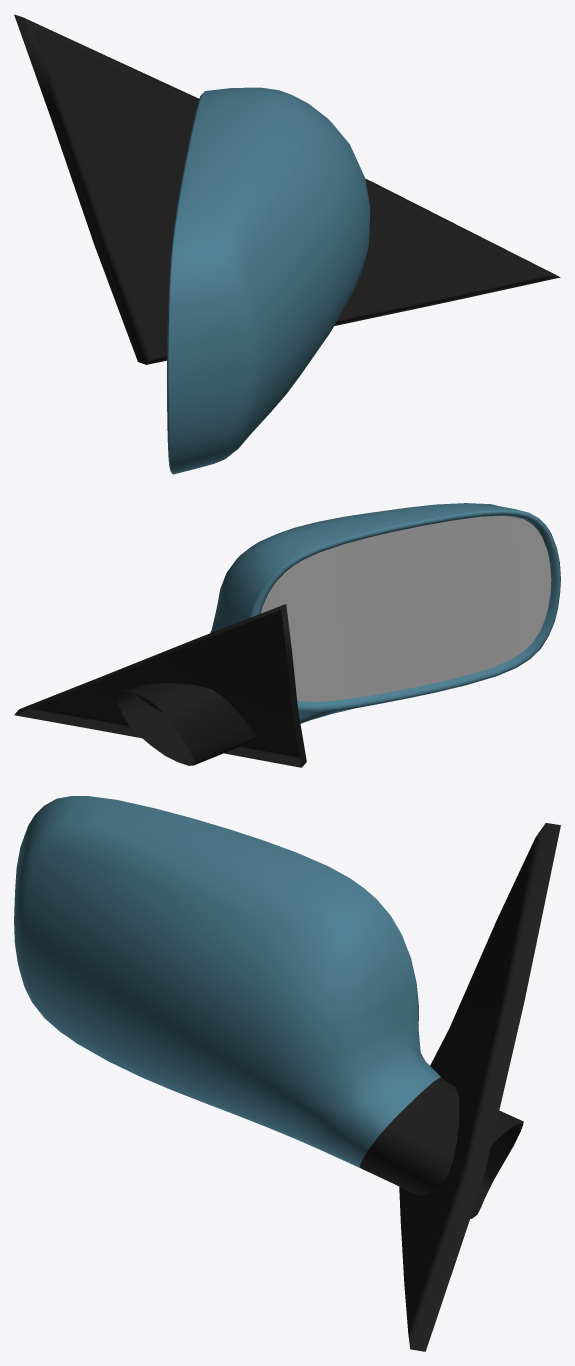
3 renders of one model, top to bottom at view 1: azimuth 30°, elevation 25°; view 2: azimuth 150°, elevation 25°; view 3: azimuth 270°, elevation 25°, orthographic. The views are drawn at different scales.
Visible parts, largest first — view 1: Y175_18_281I_R_1_DaS_Y175_18_281I_R, Y175_18_281I_R_Y175_18_281I_R_2_D; view 2: Y175_18_281I_R_Y175_18_281I_R_3_DTaSI, Y175_18_281I_R_Y175_18_281I_R_2_D, Y175_18_281I_R_1_DaS_Y175_18_281I_R; view 3: Y175_18_281I_R_1_DaS_Y175_18_281I_R, Y175_18_281I_R_Y175_18_281I_R_2_D.
Part boxes in pixels (x1,y1,x2,y2): Y175_18_281I_R_1_DaS_Y175_18_281I_R: (167, 87, 370, 474); Y175_18_281I_R_Y175_18_281I_R_2_D: (14, 14, 560, 364); Y175_18_281I_R_Y175_18_281I_R_3_DTaSI: (261, 515, 551, 701); Y175_18_281I_R_Y175_18_281I_R_2_D: (14, 604, 306, 767); Y175_18_281I_R_1_DaS_Y175_18_281I_R: (210, 503, 560, 723); Y175_18_281I_R_1_DaS_Y175_18_281I_R: (14, 796, 440, 1167); Y175_18_281I_R_Y175_18_281I_R_2_D: (360, 823, 560, 1351).
Size of the model in its own units: 32.48 by 16.87 by 26.87.
